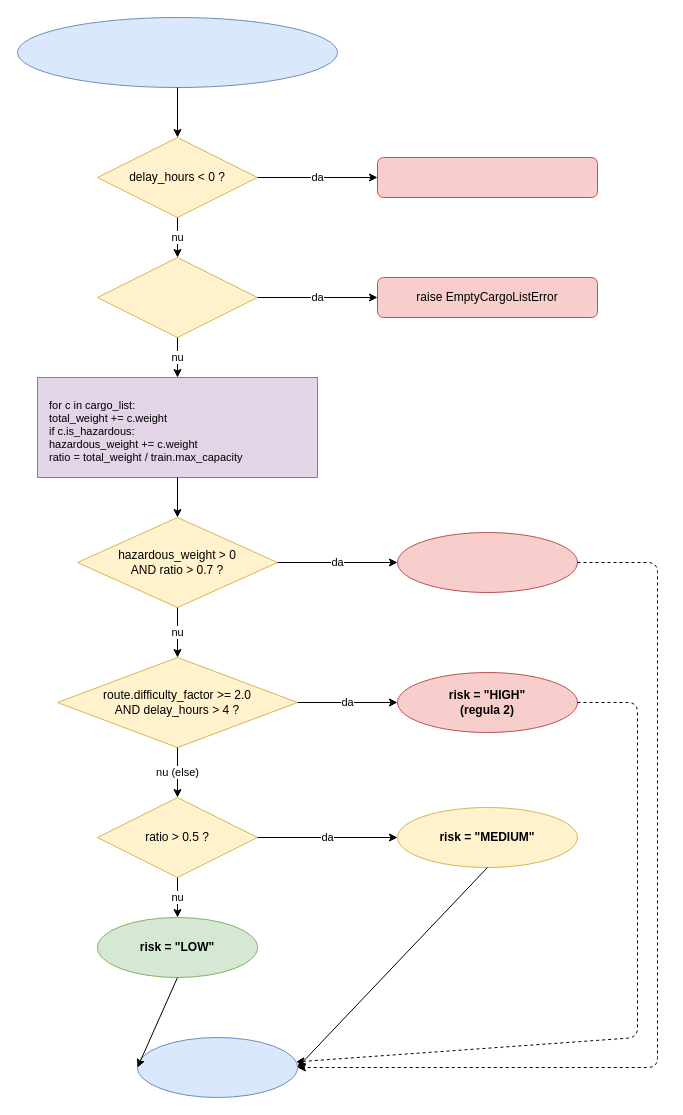
Some shapes in this 683 by 1115 pixel diagram are drawn without their labels. The shapes that lost their labels are listed below. From the top down, each one's centre as x and y in pixels, then its label:
(x=177, y=52): apel evaluate_shipment_risk (cargo_list, train, route, delay_hours)
(x=487, y=177): raise NegativeDelayError
(x=177, y=297): cargo_list este gol ?
(x=487, y=562): return "HIGH" (regula 1)
(x=217, y=1067): return risk
